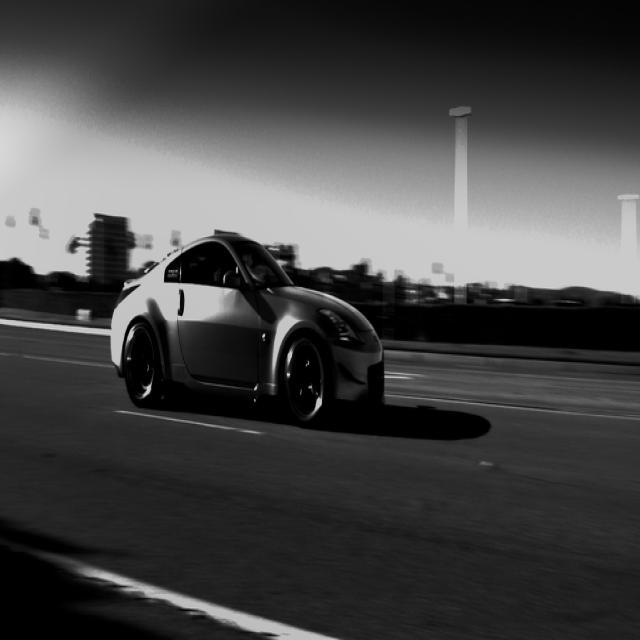car: (110, 210, 382, 422)
